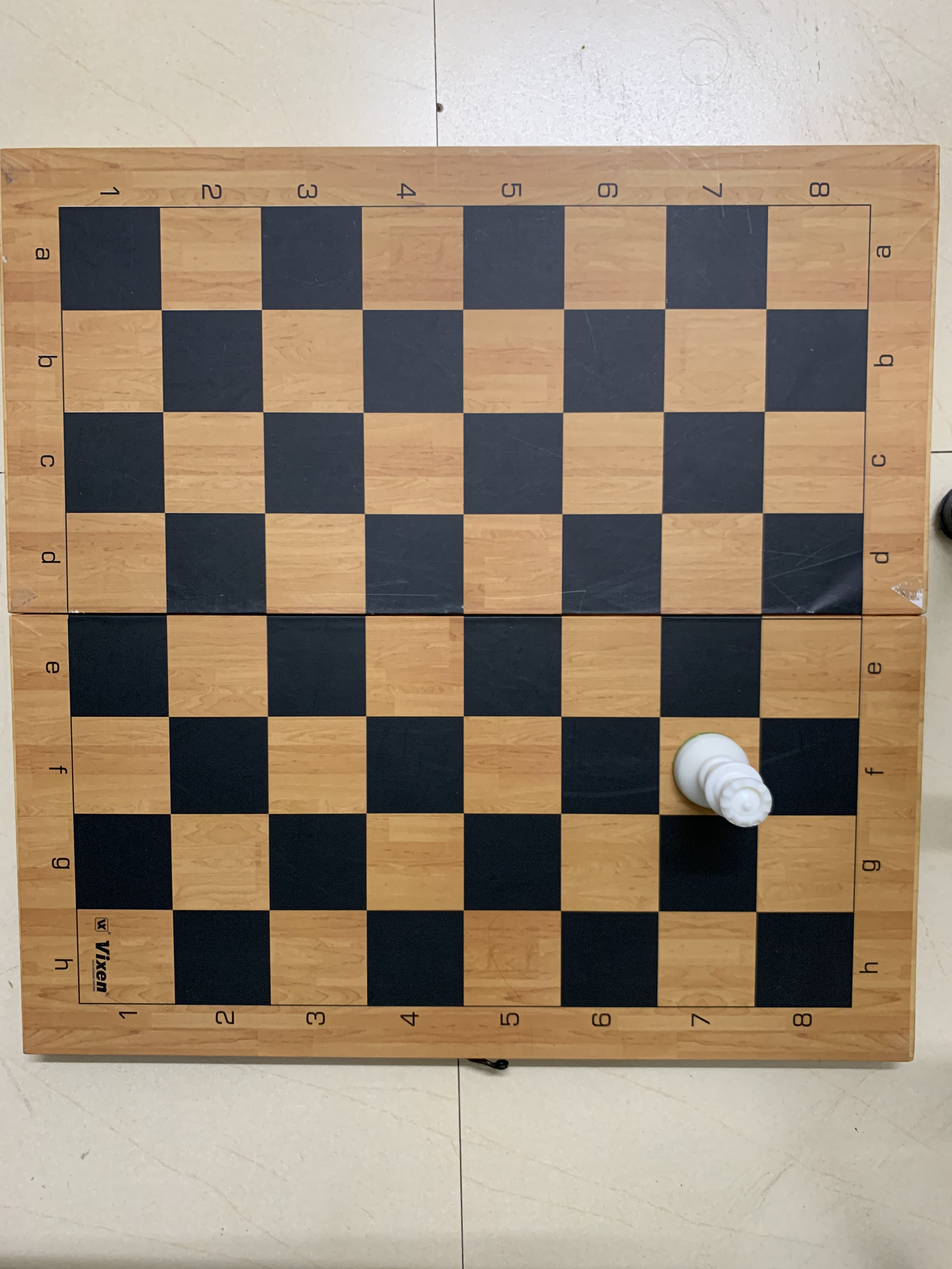white_queen: (663, 717, 773, 826)
